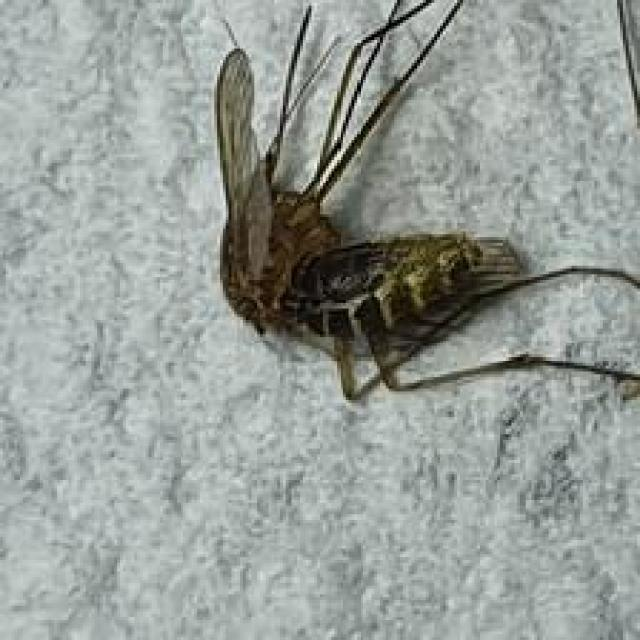Culex: (211, 0, 640, 409)
